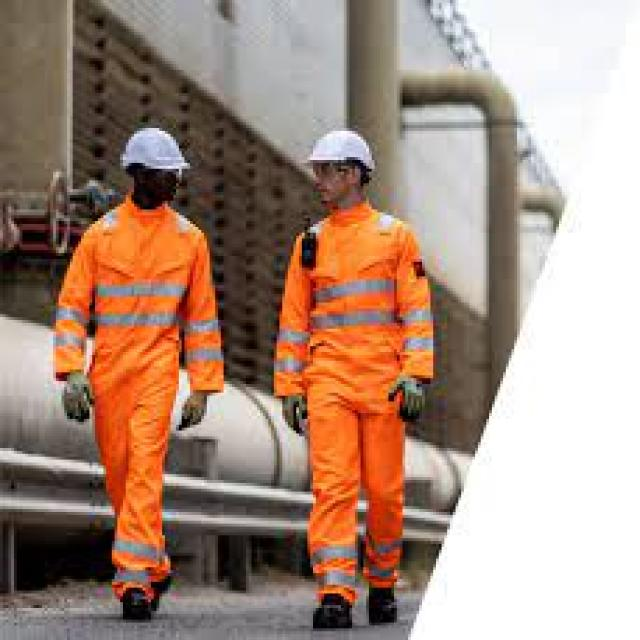shoes: (310, 590, 358, 635), (116, 584, 159, 618), (365, 589, 401, 627)
vest: (56, 203, 225, 594), (274, 202, 434, 596)
